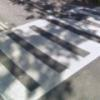crosswalks: (0, 3, 100, 100)
